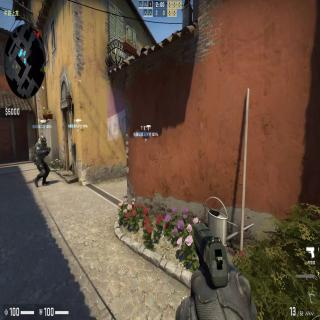CT-Body: (33, 134, 50, 188)
